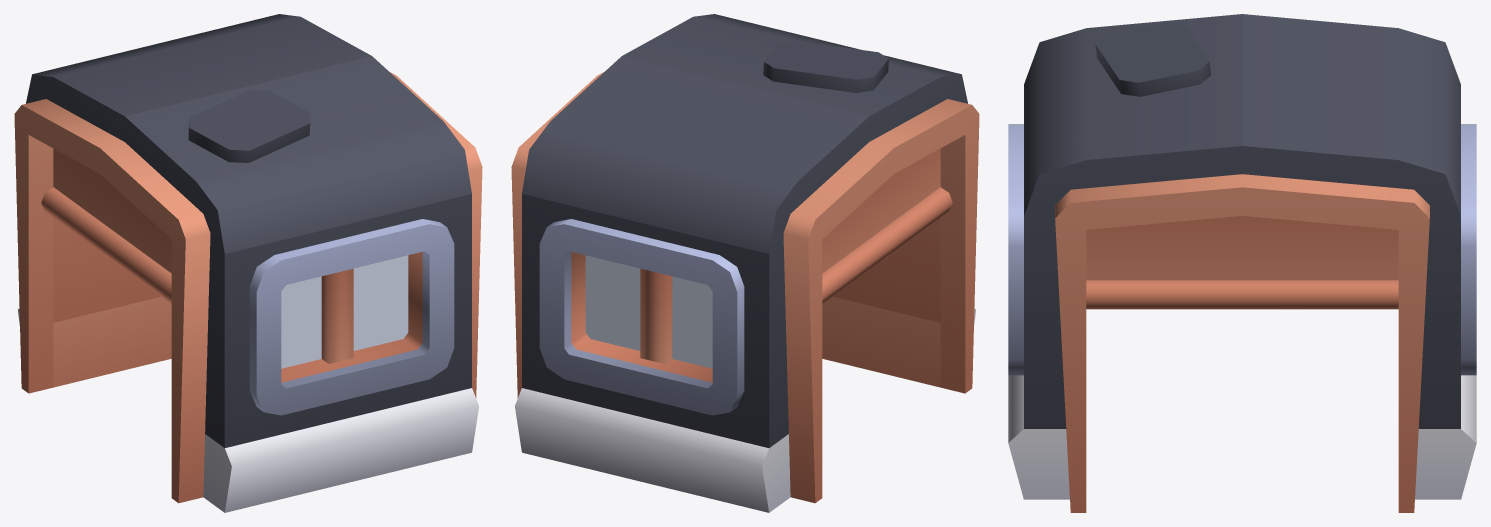
File: machine-window-bar.obj
3 views of the same model, side by side, from view 1: azimuth 30°, elevation 25°; view 2: azimuth 150°, elevation 25°; view 3: azimuth 270°, elevation 25° (orthographic). The views are drawn at different scales.
Visible parts, largest first — view 1: machine-window-bar; view 2: machine-window-bar; view 3: machine-window-bar.
Boxes of the visible parts, x1,y1,x2,y2 form: machine-window-bar: [14, 14, 482, 512]; machine-window-bar: [511, 14, 979, 512]; machine-window-bar: [1008, 14, 1476, 512].
Size of the model in its own units: 1.2 by 1.29 by 1.5.
